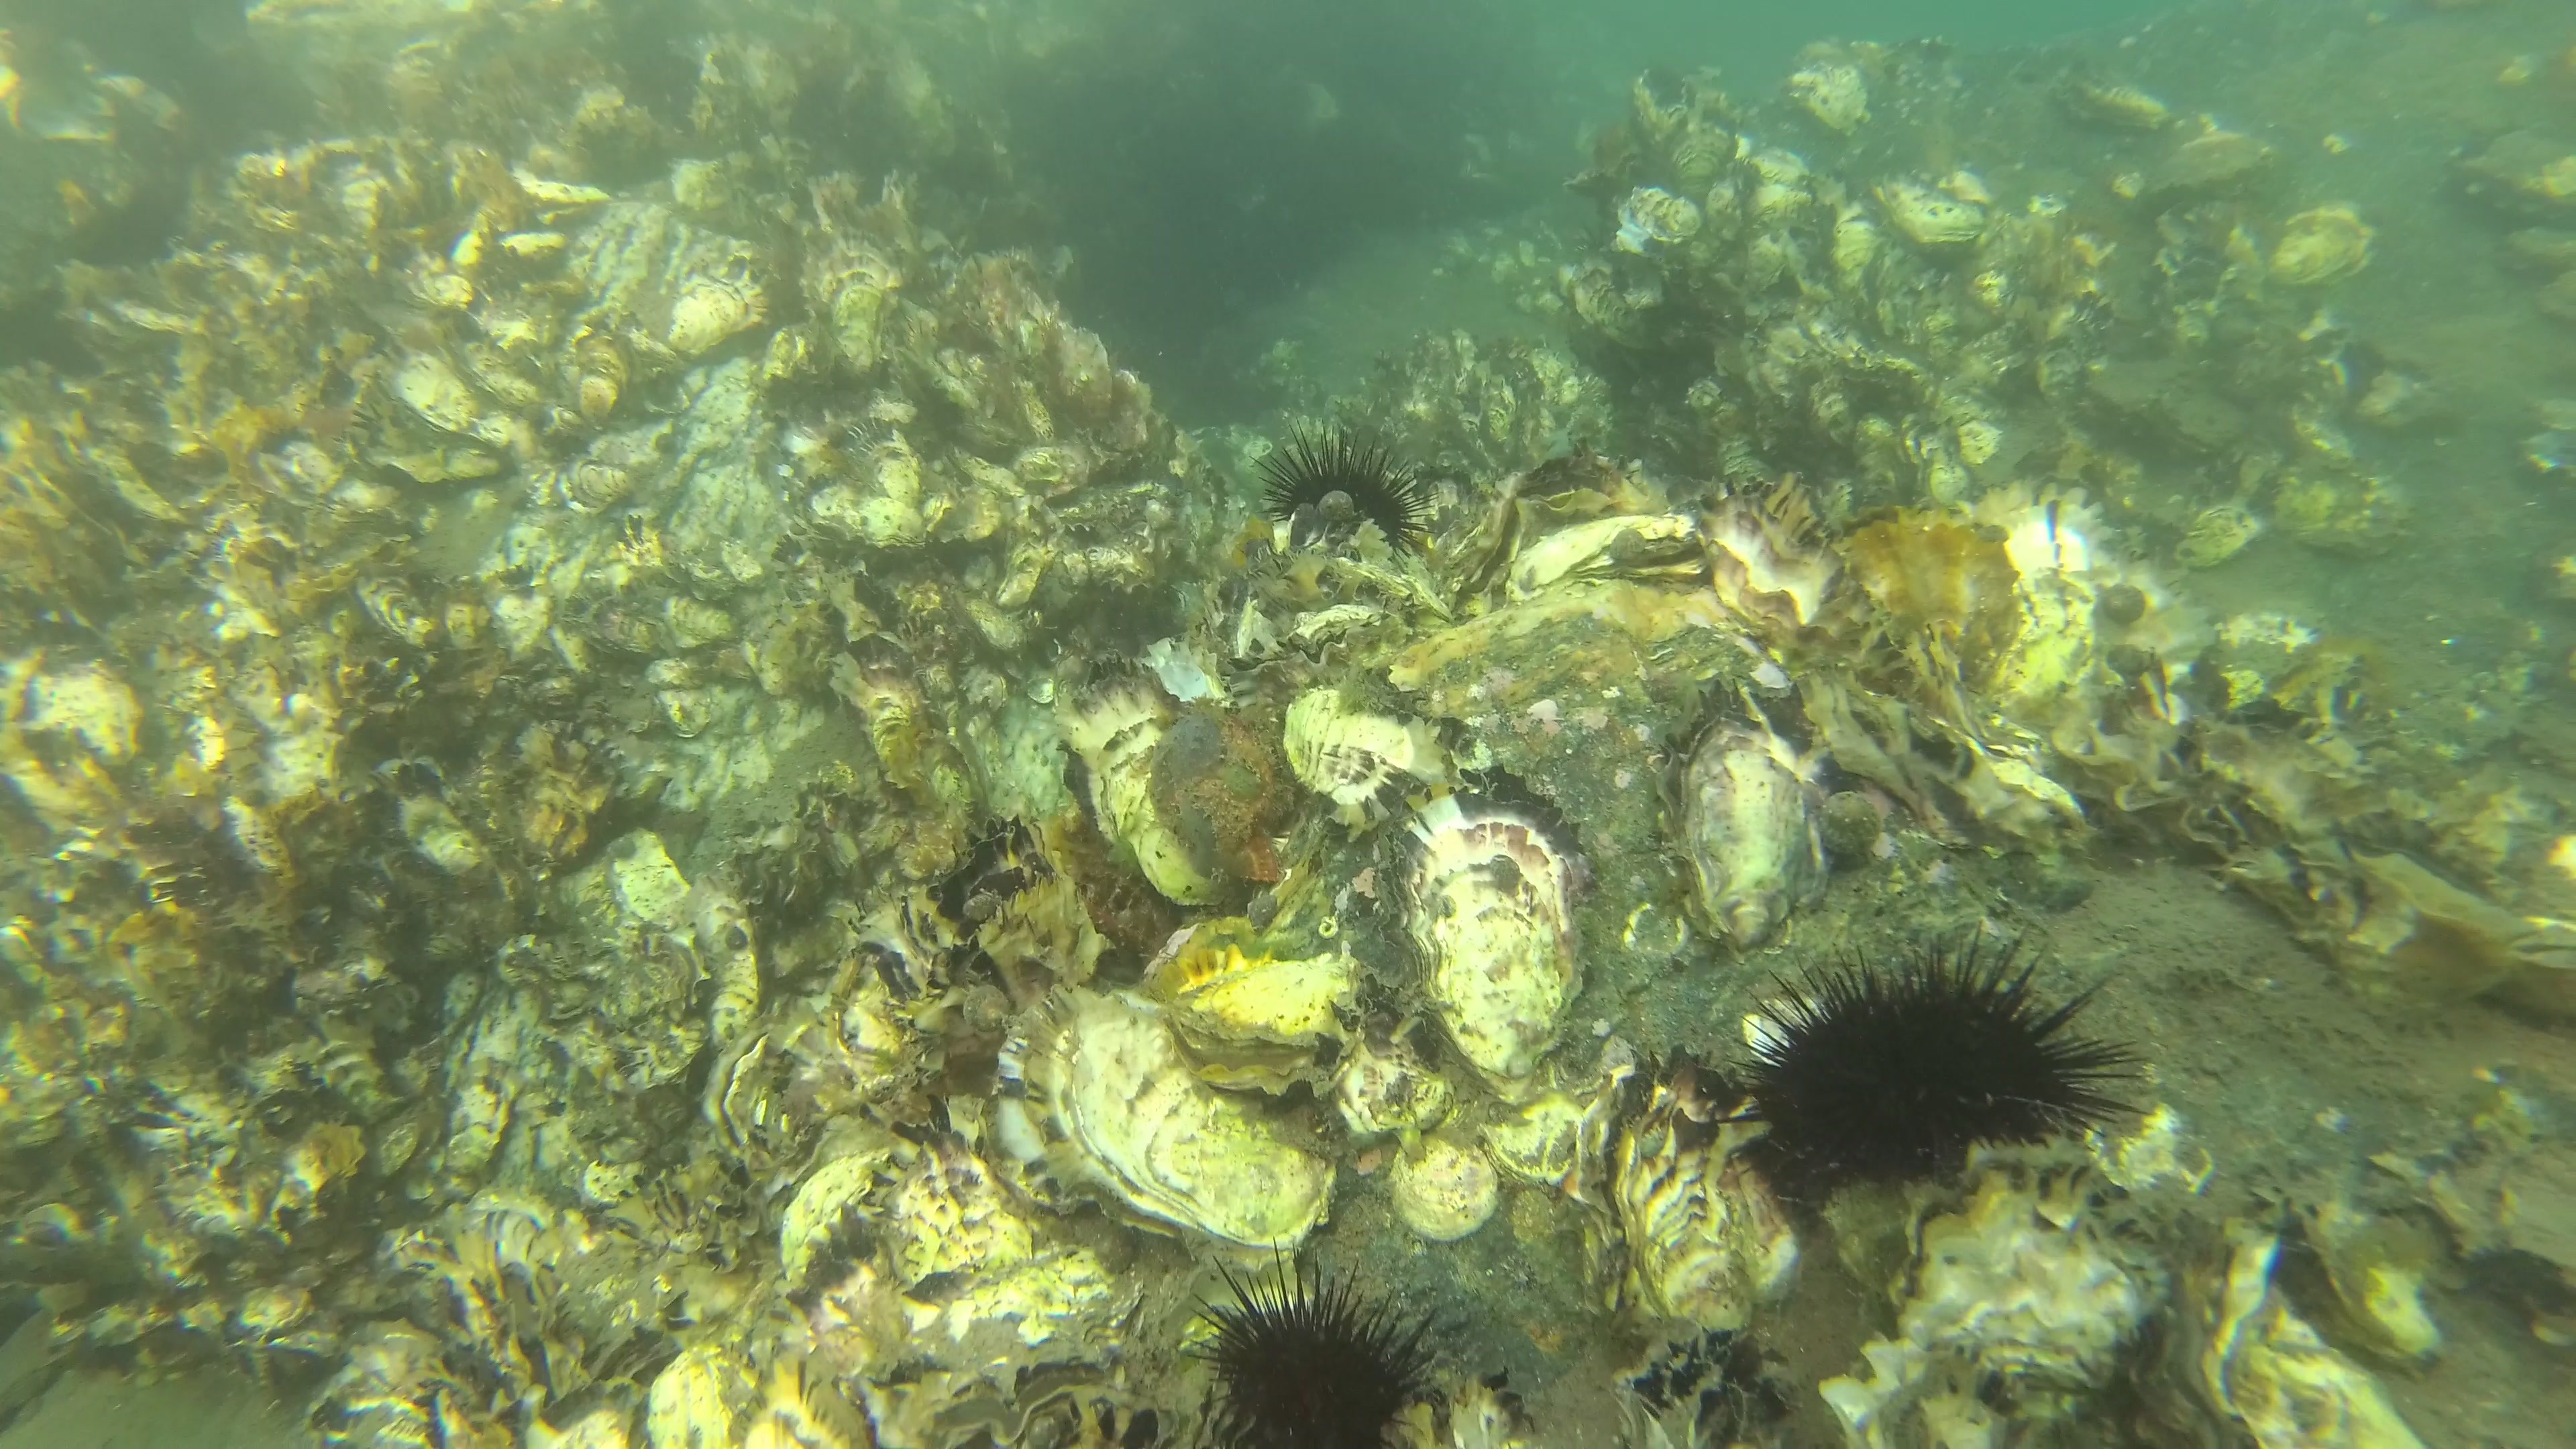echinus: (1714, 938, 2141, 1191), (1189, 1242, 1440, 1449), (1260, 425, 1440, 557)
